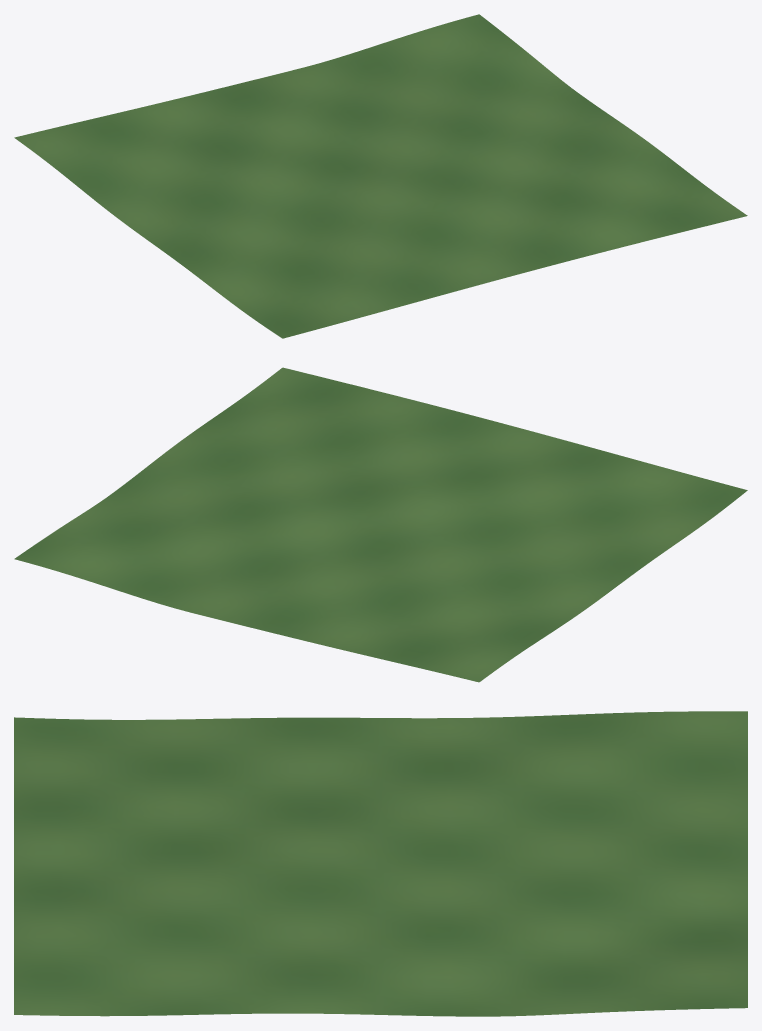
Rendered from chunk_2_9.glb.
3 renders of one model, top to bottom at view 1: azimuth 30°, elevation 25°; view 2: azimuth 150°, elevation 25°; view 3: azimuth 270°, elevation 25°, orthographic. The views are drawn at different scales.
Size of the model in its own units: 512 by 16.93 by 512.
